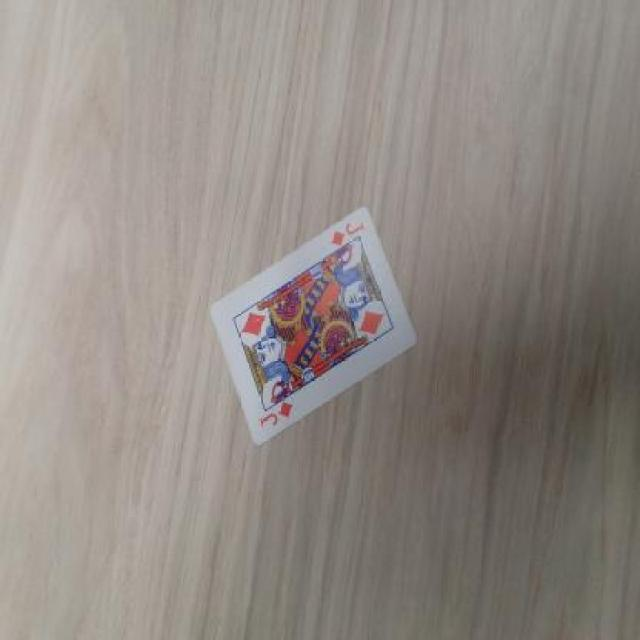JD: (316, 211, 378, 264), (250, 389, 304, 445)
